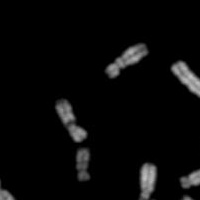chromosome: (107, 43, 149, 80), (56, 98, 88, 143), (172, 60, 200, 104), (0, 152, 23, 200), (138, 163, 156, 200), (75, 148, 92, 181), (180, 167, 200, 189), (179, 195, 200, 200)
